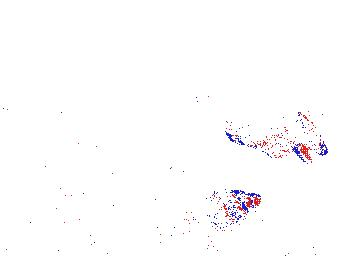X-ray fish: (177, 189, 266, 222)
red belly glassfish: (230, 212, 275, 234)
redtail glassfish: (213, 112, 299, 150), (293, 104, 330, 162)
